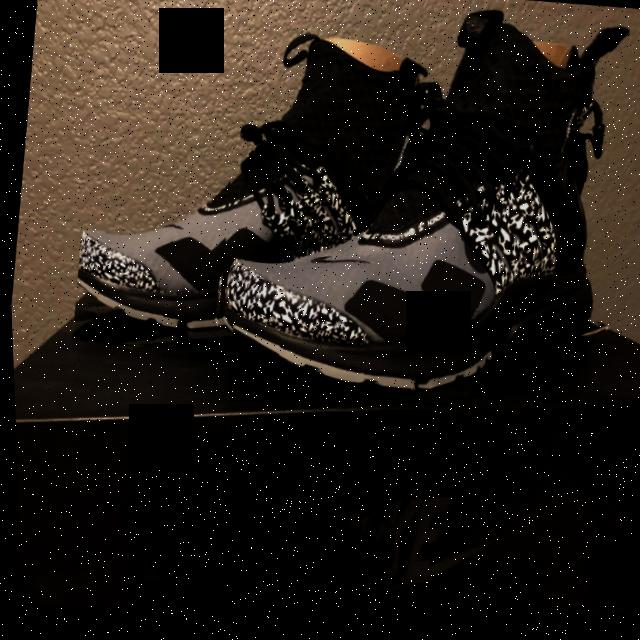shoe: (197, 0, 640, 440), (60, 0, 459, 383)
